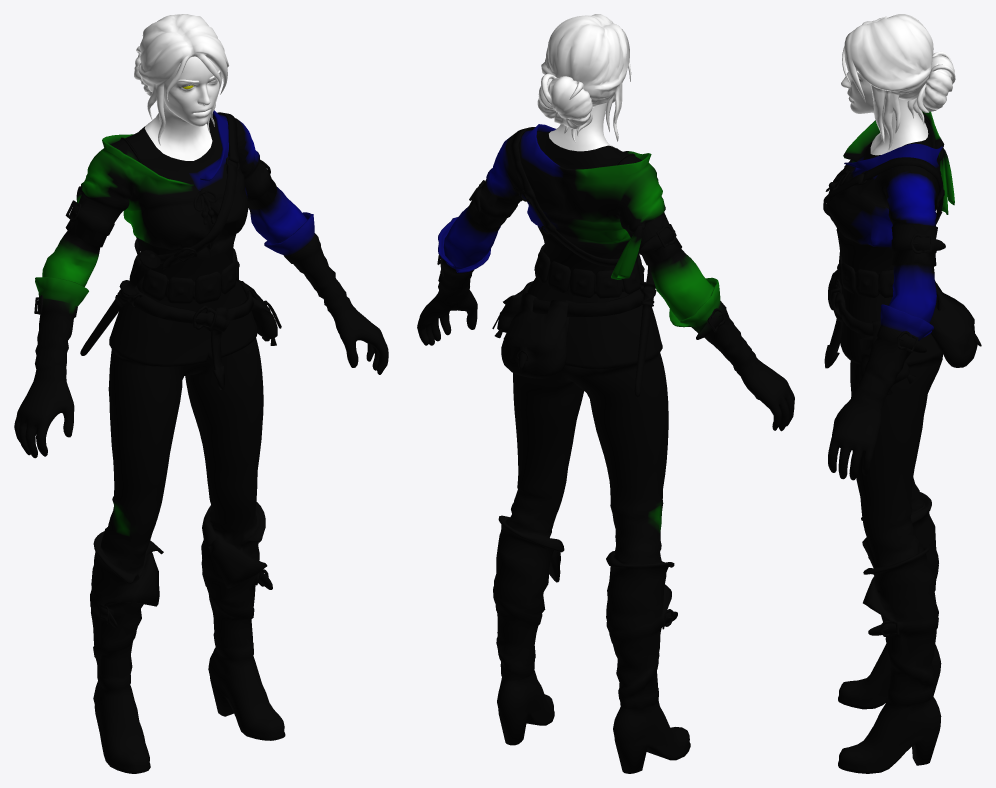
Rendered from ciri.fbx.
The picture shows the model from 3 angles, left to right: view 1: azimuth 30°, elevation 25°; view 2: azimuth 150°, elevation 25°; view 3: azimuth 270°, elevation 25°; orthographic projection.
Visible parts, largest first — view 1: F_MED_HighBeam_LOD0; view 2: F_MED_HighBeam_LOD0; view 3: F_MED_HighBeam_LOD0.
Part boxes in pixels (box(x1,y1,x2,y2)): F_MED_HighBeam_LOD0: box(14, 14, 388, 773); F_MED_HighBeam_LOD0: box(417, 14, 794, 773); F_MED_HighBeam_LOD0: box(823, 14, 981, 773).
Bounding box in the file's own units: 88.33 × 167 × 33.58.
